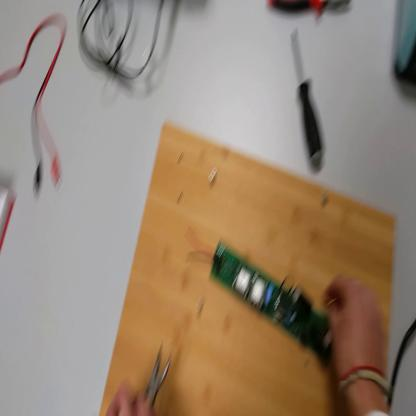hand: (325, 275, 388, 391), (106, 377, 151, 415)
high voltage board: (181, 226, 328, 372)
oscilloscope probe tip: (81, 33, 144, 88)
pliers: (148, 335, 175, 414), (269, 3, 352, 21)
screwdriver-: (290, 25, 326, 166)
welder station: (394, 1, 416, 93)
working area: (100, 121, 401, 415)
